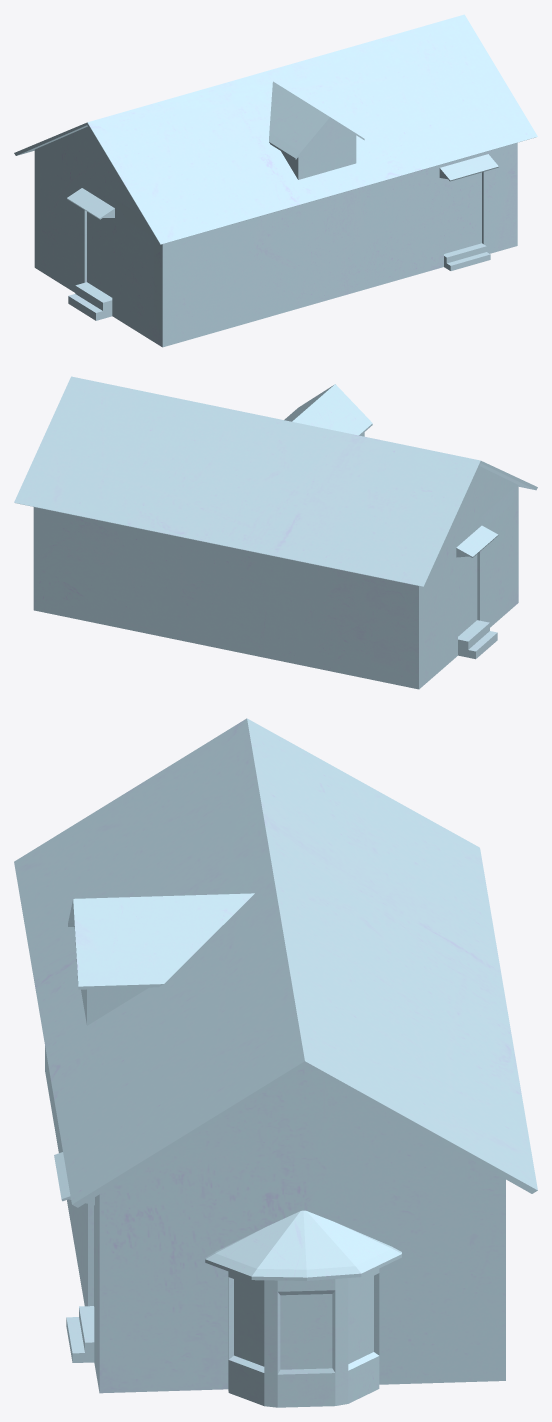
Rendered from objeto.obj.
3 renders of one model, top to bottom at view 1: azimuth 30°, elevation 25°; view 2: azimuth 150°, elevation 25°; view 3: azimuth 270°, elevation 25°, orthographic. The views are drawn at different scales.
Visible parts, largest first — view 1: Cube; view 2: Cube; view 3: Cube.
Part boxes in pixels (box(x1,y1,x2,y2)): Cube: box(14, 14, 537, 347); Cube: box(14, 376, 537, 689); Cube: box(14, 718, 537, 1407).
Bounding box in the file's own units: 33.93 × 14.67 × 20.74.
